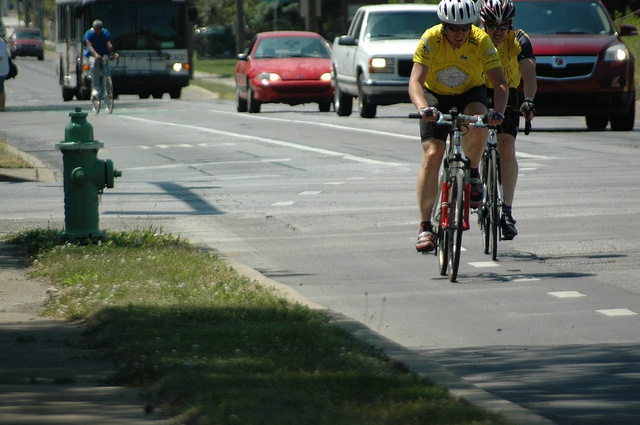non-vehicle: (410, 111, 500, 283), (476, 106, 533, 262), (90, 54, 118, 113)
